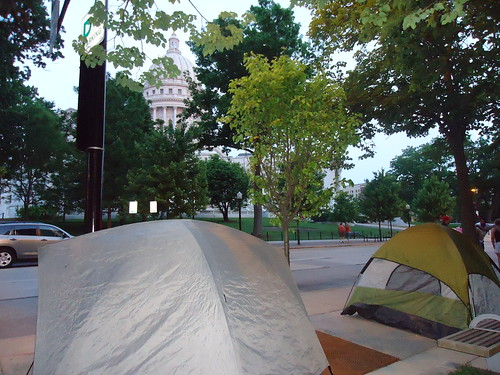building: (135, 37, 199, 128)
car: (1, 217, 85, 269)
tent: (29, 230, 334, 375), (335, 216, 500, 340)
tree: (331, 1, 500, 224), (226, 59, 365, 275), (191, 12, 292, 249), (125, 122, 207, 227), (197, 156, 254, 221)
